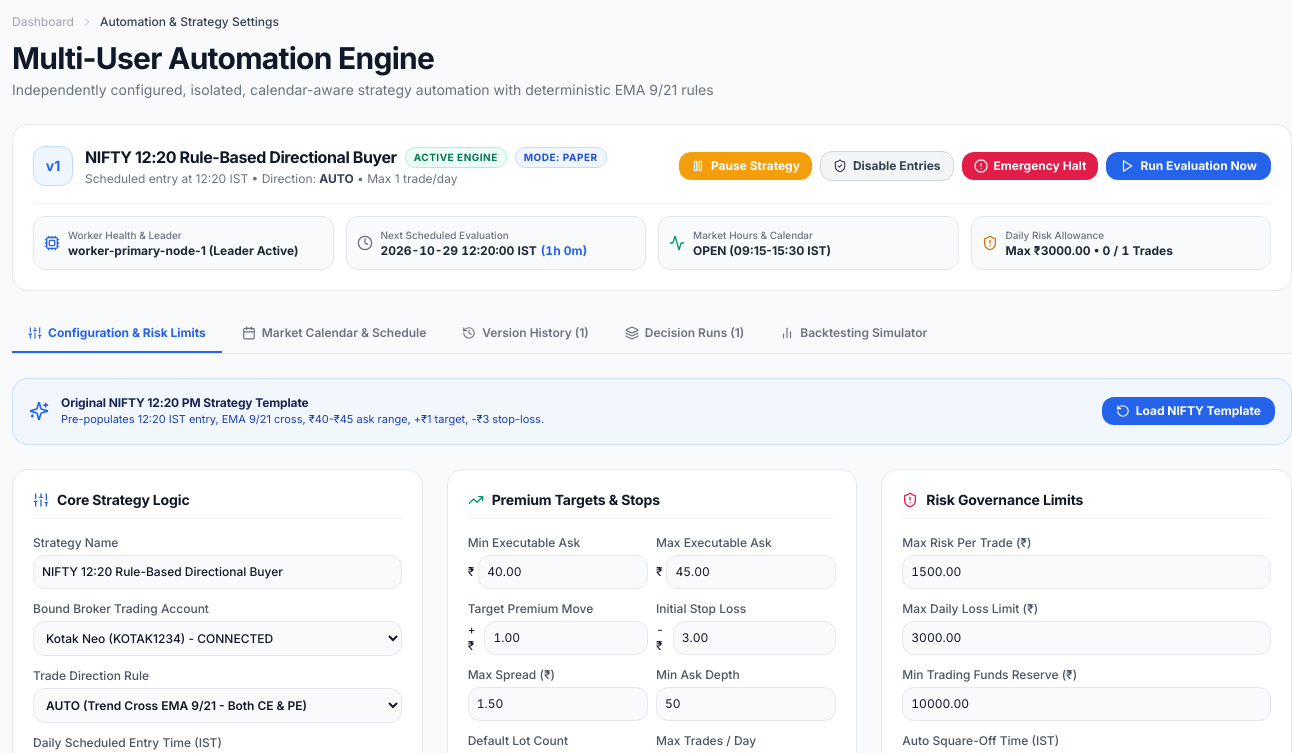
Test: CODEX PHASE 7 — Multi-User Automation Engine Test Suite › TASK 1: Loading Original NIFTY Strategy Template displays unvalidated disclaimer
Step 1. Click the button "Load NIFTY Template" → (1188, 411), box [1102,397,1275,425]
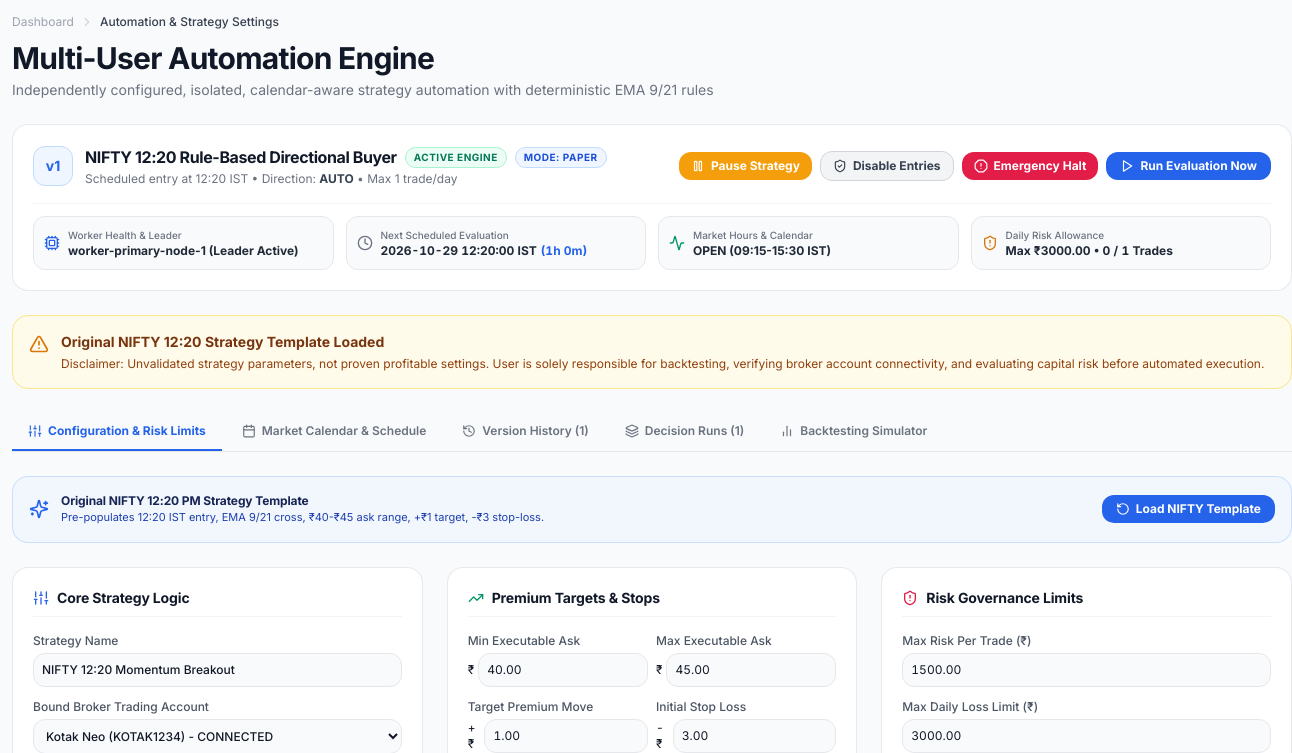
Expected: the text "Original NIFTY 12:20 Strategy Template Loaded" is shown, [61,333,384,350]
Expected: the text "Unvalidated strategy parameters, not proven profitable settings" is shown, [61,356,1264,371]
